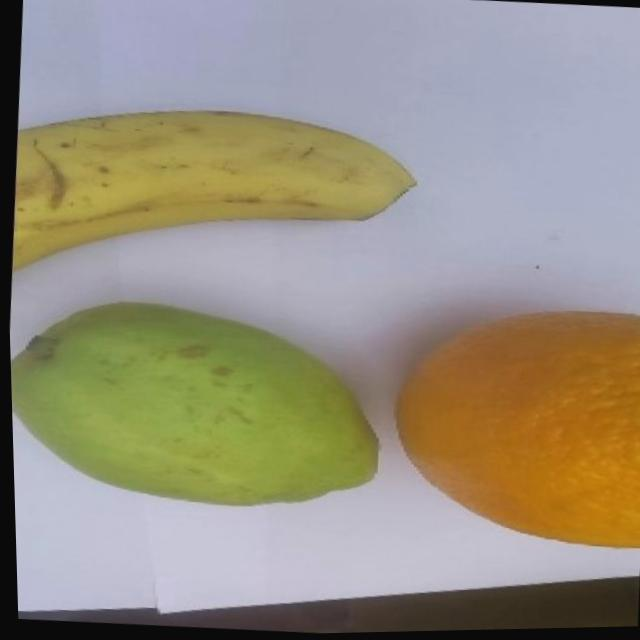Banana: (5, 94, 423, 302)
Orange: (379, 299, 640, 558)
